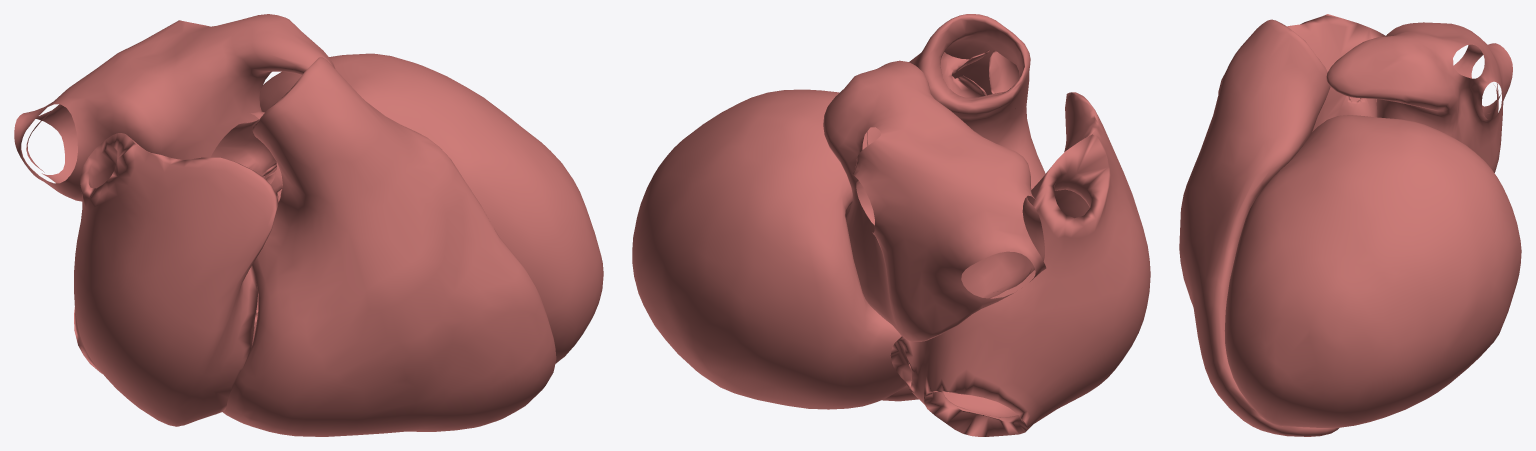
File: vh_f_heart-40.glb
3 views of the same model, side by side, from view 1: azimuth 30°, elevation 25°; view 2: azimuth 150°, elevation 25°; view 3: azimuth 270°, elevation 25° (orthographic). The views are drawn at different scales.
Visible parts, largest first — view 1: VH_F_right_ventricle, VH_F_right_cardiac_atrium, VH_F_left_ventricle, VH_F_left_cardiac_atrium, VH_F_aortic_valve; view 2: VH_F_left_ventricle, VH_F_right_cardiac_atrium, VH_F_left_cardiac_atrium, VH_F_right_ventricle, VH_F_pulmonary_valve; view 3: VH_F_left_ventricle, VH_F_right_ventricle, VH_F_left_cardiac_atrium, VH_F_right_cardiac_atrium, VH_F_aortic_valve.
Part boxes in pixels (x1,y1,x2,y2): VH_F_right_ventricle: [222, 57, 556, 436]; VH_F_right_cardiac_atrium: [74, 133, 278, 426]; VH_F_left_ventricle: [259, 53, 603, 363]; VH_F_left_cardiac_atrium: [14, 14, 335, 201]; VH_F_aortic_valve: [210, 111, 282, 202]; VH_F_left_ventricle: [632, 89, 906, 409]; VH_F_right_cardiac_atrium: [890, 92, 1150, 436]; VH_F_left_cardiac_atrium: [823, 60, 1046, 341]; VH_F_right_ventricle: [882, 14, 1045, 401]; VH_F_pulmonary_valve: [940, 50, 1018, 108]; VH_F_left_ventricle: [1224, 115, 1521, 427]; VH_F_right_ventricle: [1179, 19, 1339, 436]; VH_F_left_cardiac_atrium: [1326, 22, 1512, 172]; VH_F_right_cardiac_atrium: [1218, 14, 1385, 101]; VH_F_aortic_valve: [1312, 87, 1377, 131].
Size of the model in its own units: 0.1425 by 0.11 by 0.1015.
